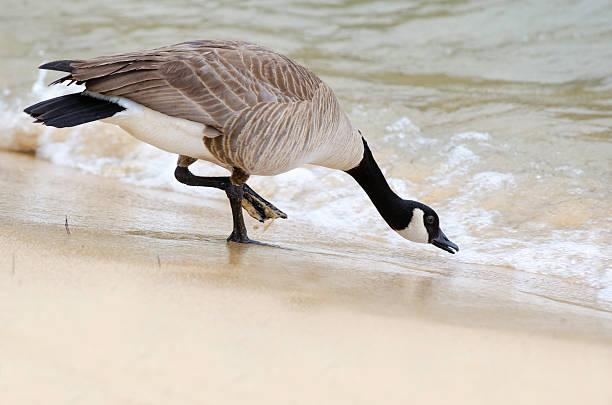Canadian-Goose: (29, 40, 459, 257)
